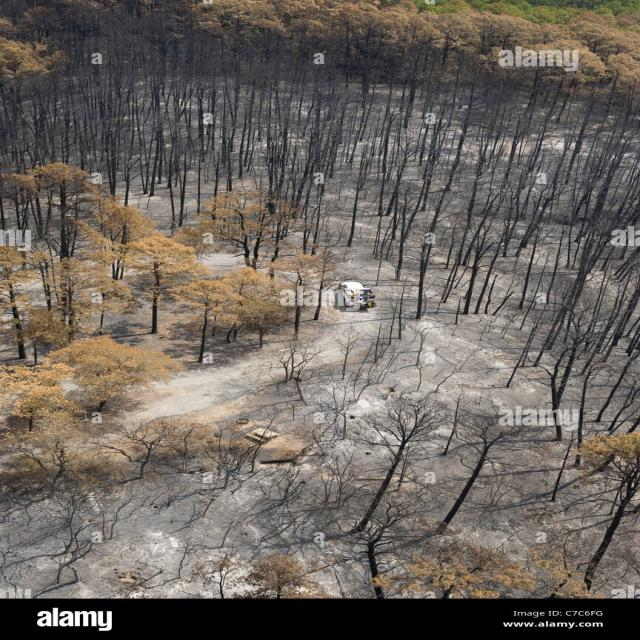Forest Fire: (109, 111, 619, 408)
